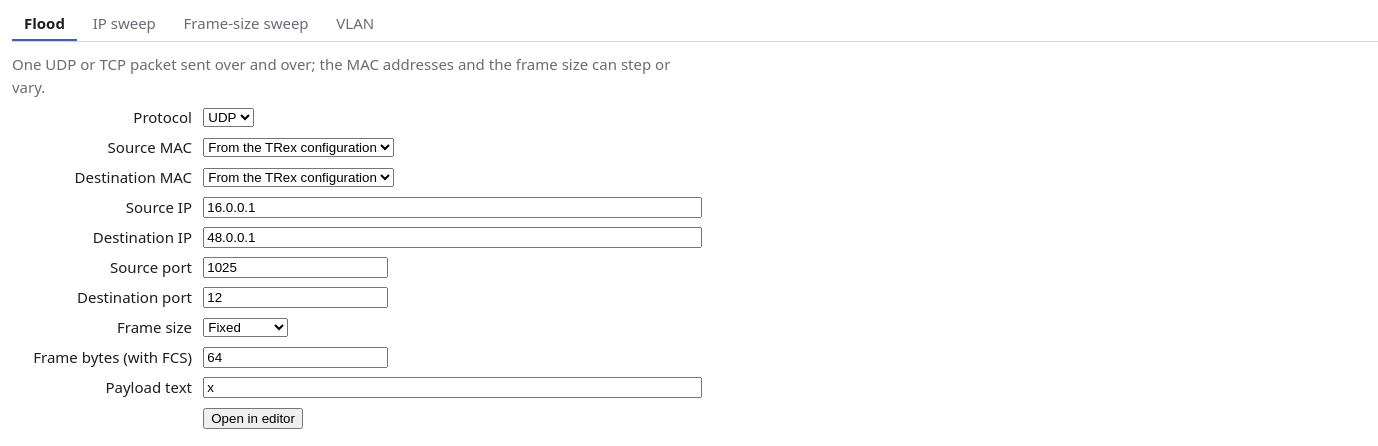
Test: Presets › a number that is not whole is refused in the form, a refusal from the backend is shown
Click the tab "Flood" at [44, 24], box 12,8 -> 77,41
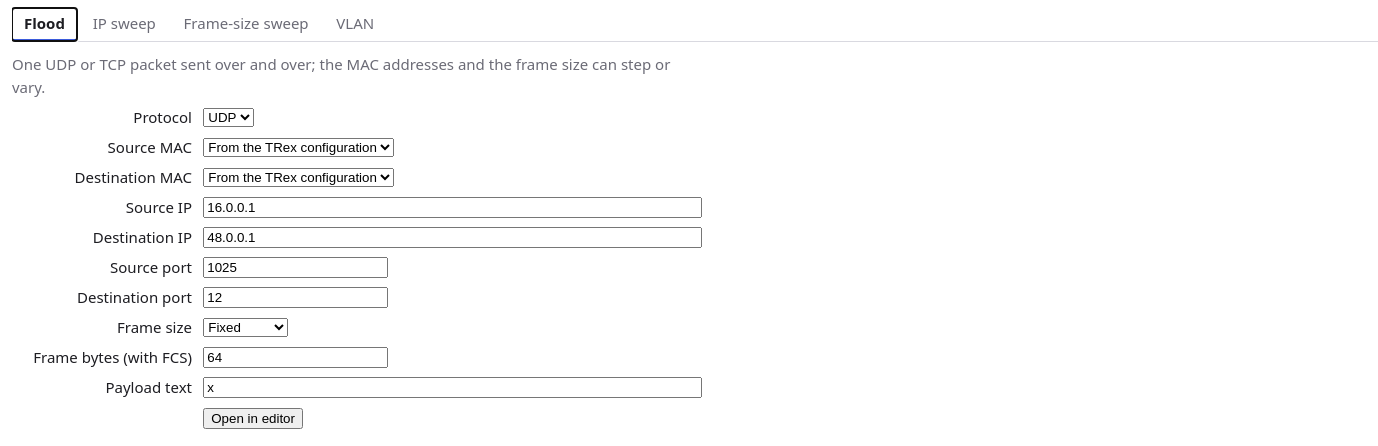
Replace the text in the field labelled "Source port" with "80x" at [296, 267], box 203,256 -> 388,278
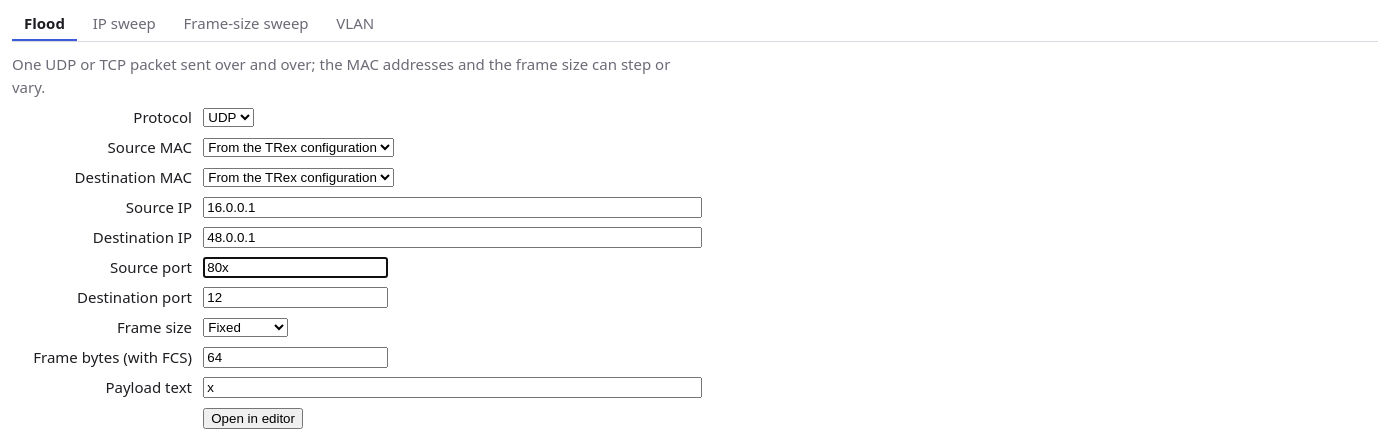
Click the button "Open in editor" at [253, 418], box 203,408 -> 303,429
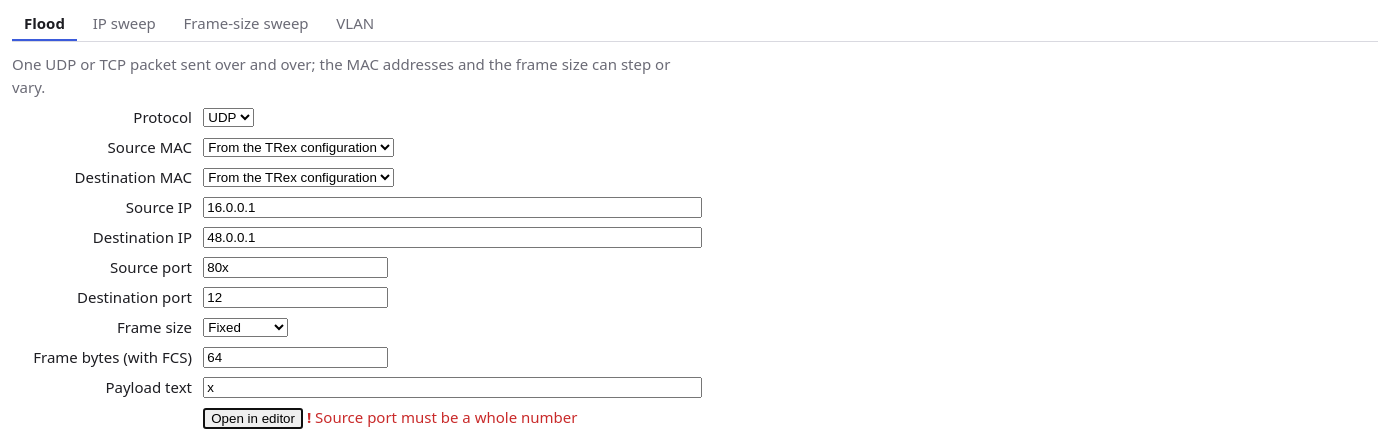
Expected: the message shows "Source port must be a whole number", 315,407 -> 578,427
Replace the text in the field labelled "Source port" with "80" at [296, 267], box 203,256 -> 388,278
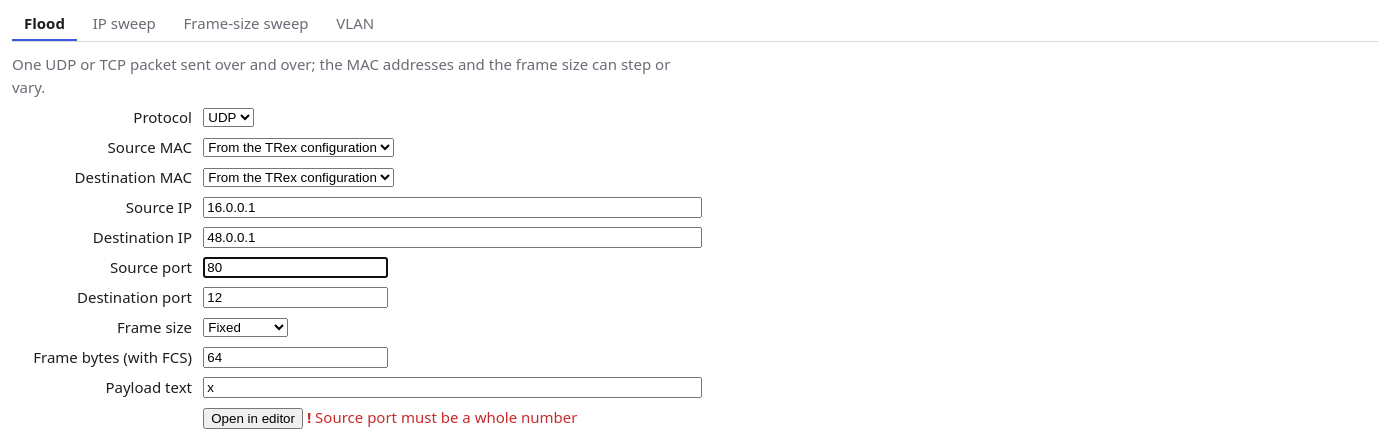
Click the button "Open in editor" at [253, 418], box 203,408 -> 303,429
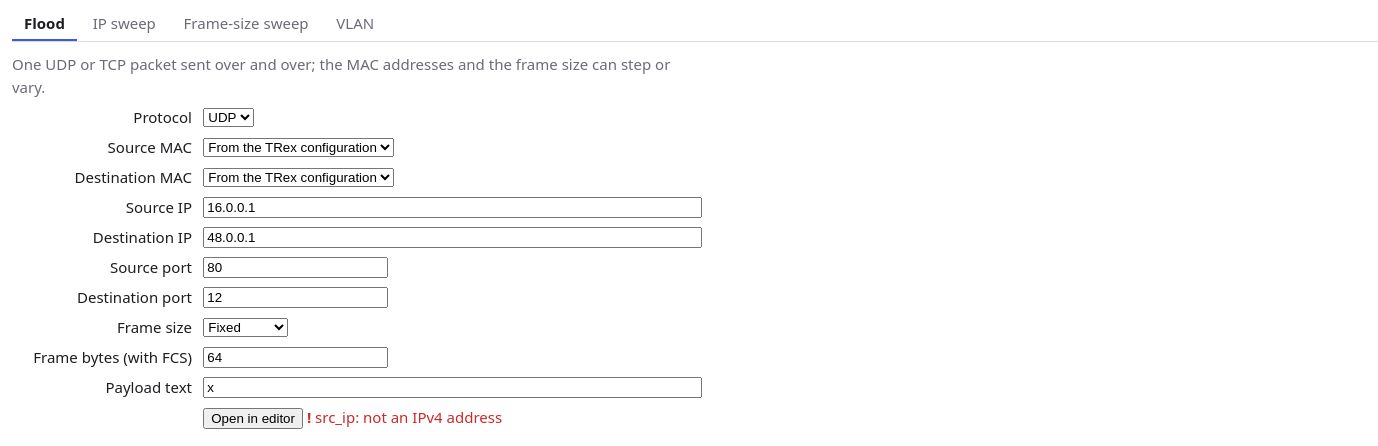
Expected: the message shows "src_ip: not an IPv4 address", 315,407 -> 502,427
